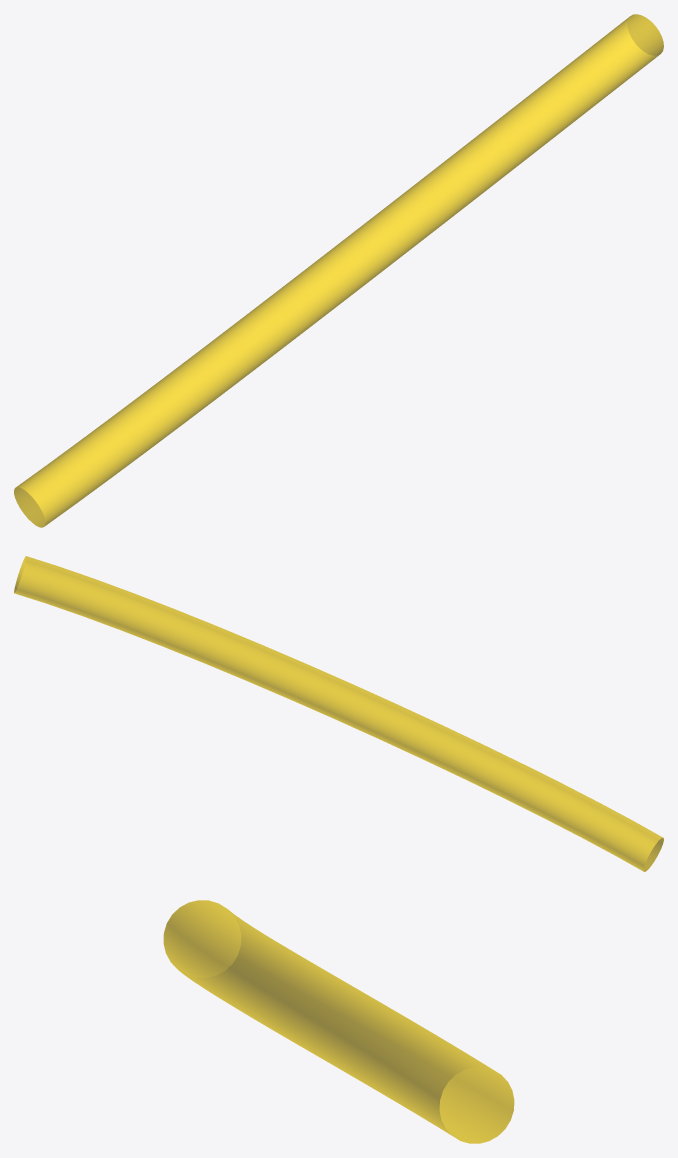
The model's file is Event_31209032_track_36.fbx.
3 views of the same model, one above another, from view 1: azimuth 30°, elevation 25°; view 2: azimuth 150°, elevation 25°; view 3: azimuth 270°, elevation 25° (orthographic). The views are drawn at different scales.
Parts seen in each view (by area): view 1: Model; view 2: Model; view 3: Model.
Part boxes in pixels (x1,y1,x2,y2): Model: (14, 14, 663, 527); Model: (14, 556, 663, 871); Model: (163, 900, 514, 1143).
Size of the model in its own units: 0.6789 by 0.2545 by 0.1787.
